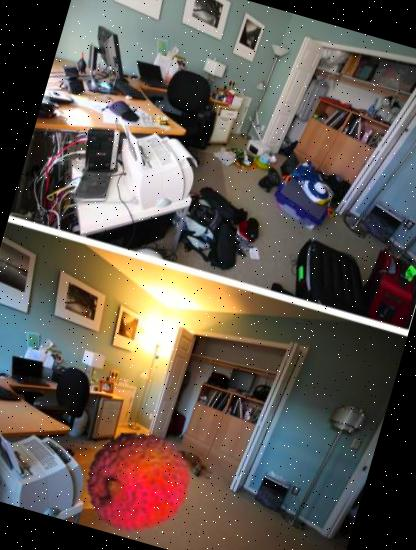Lychee: (71, 416, 205, 550)
